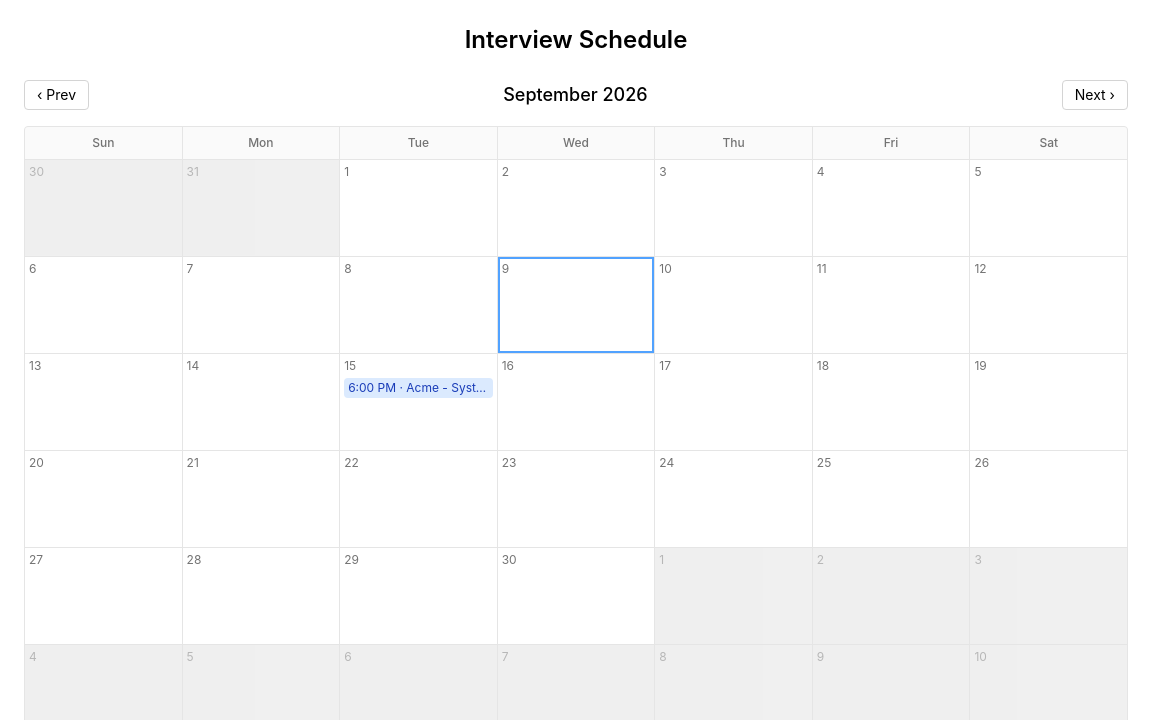
Scenario: CalendarPage › clicking an interview chip opens edit mode pre-filled with its details
The width and height of the screenshot is (1152, 720).
Click the button "6:00 PM · Acme - System Design".
click(418, 388)  # box [344, 378, 493, 398]
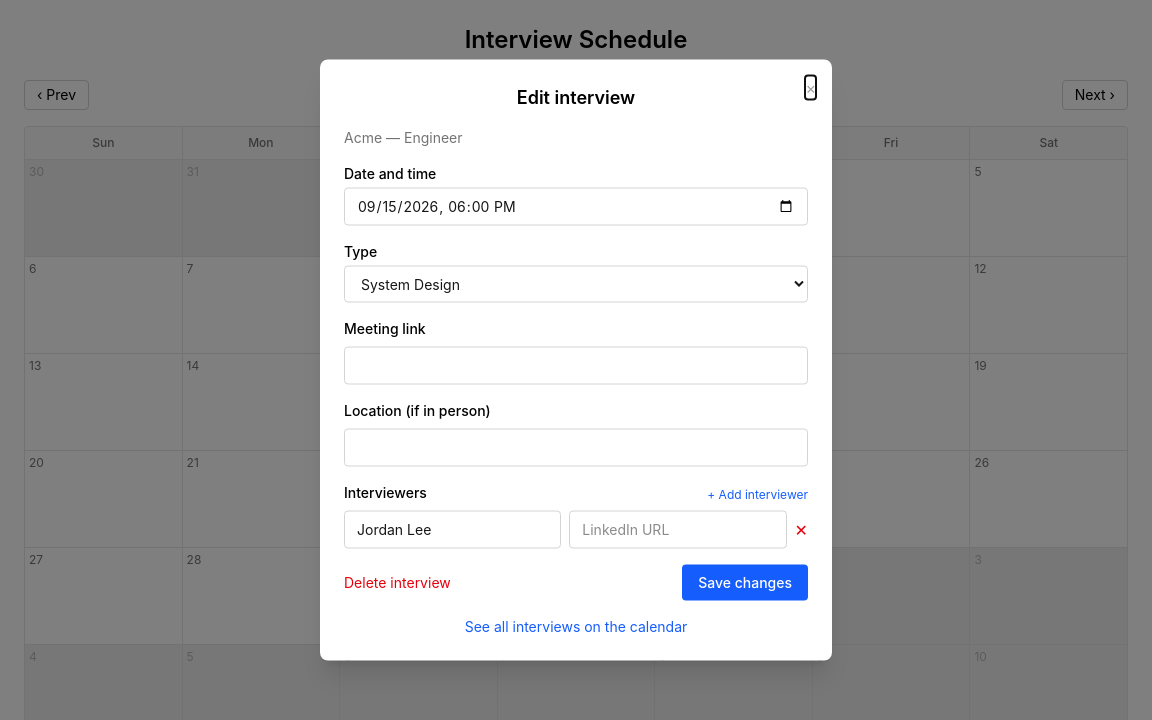
Result: the field named "Interviewer name" holds "Jordan Lee" at [344, 510, 561, 548]
